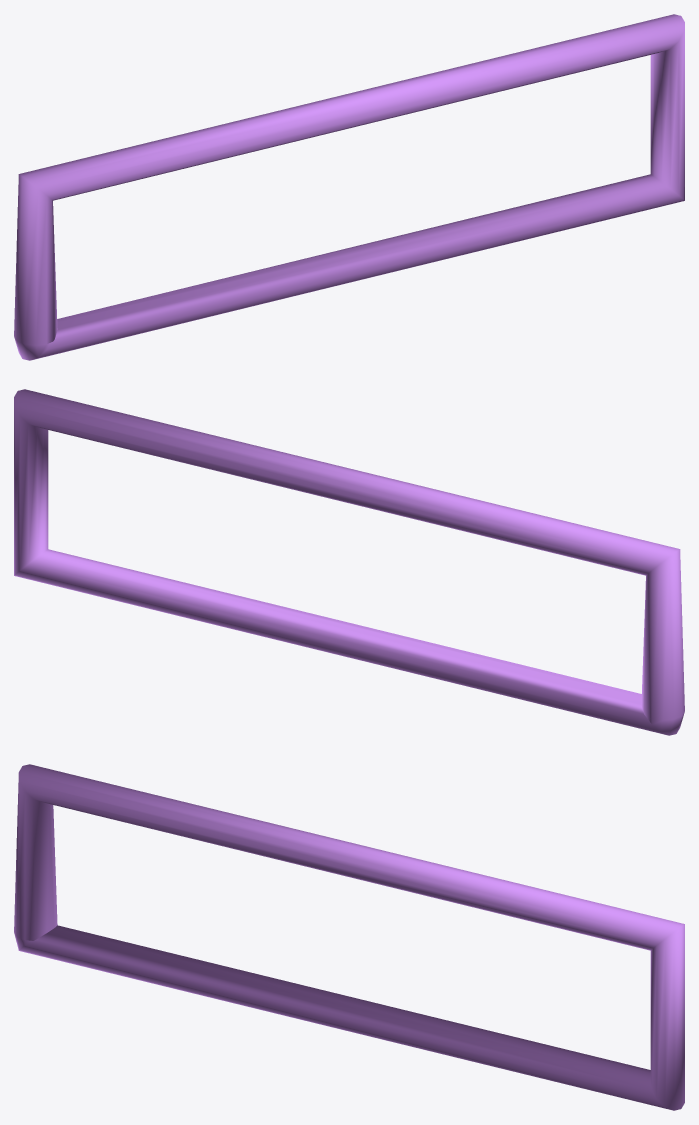
The model's file is gate-frame-D-zt1xHB.glb.
3 renders of one model, top to bottom at view 1: azimuth 30°, elevation 25°; view 2: azimuth 150°, elevation 25°; view 3: azimuth 330°, elevation 25°, orthographic.
Parts seen in each view (by area): view 1: R3D_gate-frame_Body_0; view 2: R3D_gate-frame_Body_0; view 3: R3D_gate-frame_Body_0.
Part boxes in pixels (box(x1,y1,x2,y2)): R3D_gate-frame_Body_0: box(14, 14, 684, 360); R3D_gate-frame_Body_0: box(14, 389, 684, 735); R3D_gate-frame_Body_0: box(14, 764, 684, 1110).
Bounding box in the file's own units: 3.15 × 0.8273 × 0.18.
